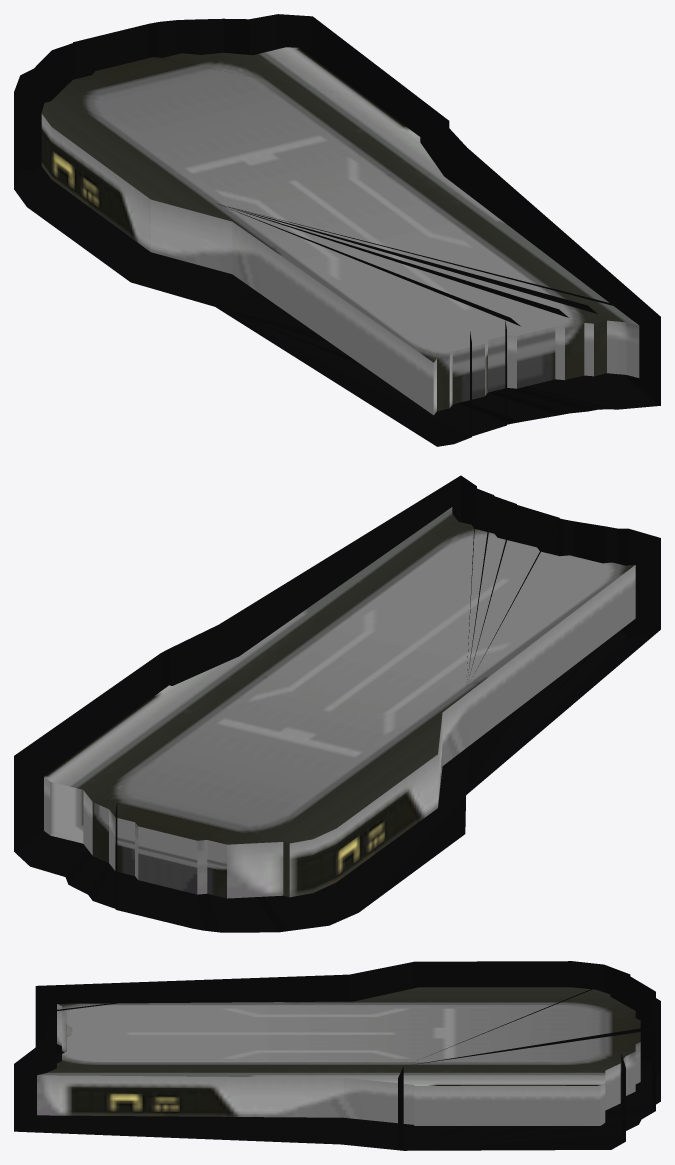
Rendered from Building_CryptosleepCasket_Things_Building_Ship_ShipCryptosleepCasketOpenDoor.glb.
The picture shows the model from 3 angles, top to bottom: view 1: azimuth 30°, elevation 25°; view 2: azimuth 150°, elevation 25°; view 3: azimuth 270°, elevation 25°; orthographic projection. The views are drawn at different scales.
Visible parts, largest first — view 1: Body, Outline; view 2: Body, Outline; view 3: Body, Outline.
Boxes of the visible parts, <box> form: Body: <box>41,47,639,415</box>; Outline: <box>14,14,660,446</box>; Body: <box>44,507,635,898</box>; Outline: <box>14,475,660,932</box>; Body: <box>37,987,640,1125</box>; Outline: <box>14,961,660,1150</box>.
Size of the model in its own units: 0.7594 by 0.2594 by 1.79.
2 materials, 1 textured.
